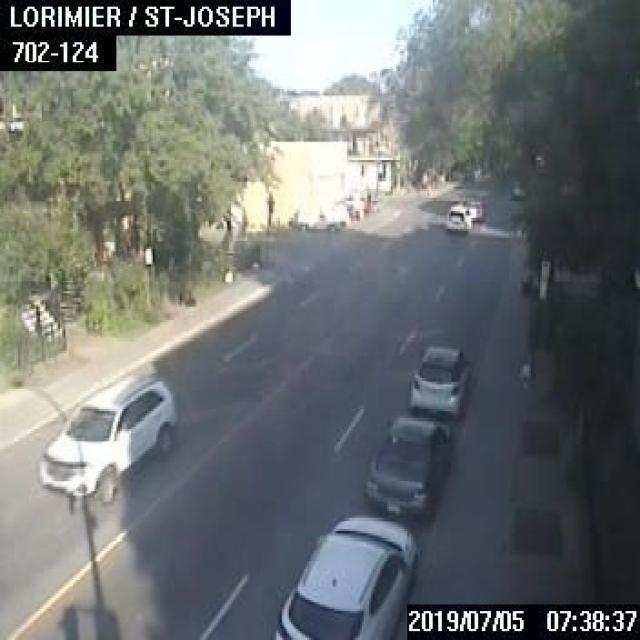vehicle: (273, 514, 417, 638), (37, 375, 173, 500), (363, 415, 451, 518), (408, 344, 472, 416), (292, 198, 346, 226), (446, 205, 470, 230), (463, 199, 482, 219), (509, 178, 526, 197)
